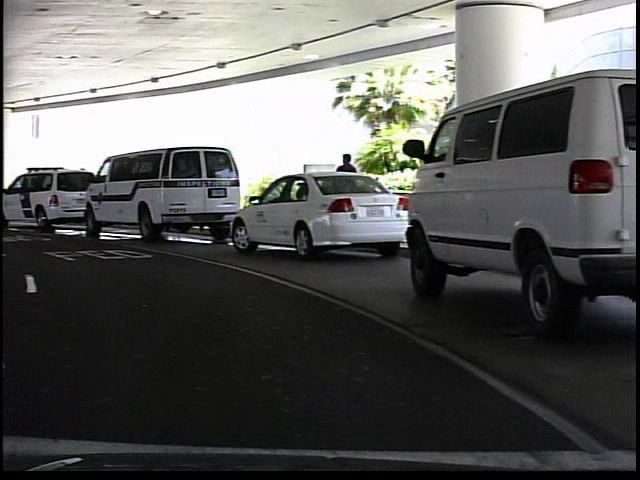person: (332, 149, 362, 235)
